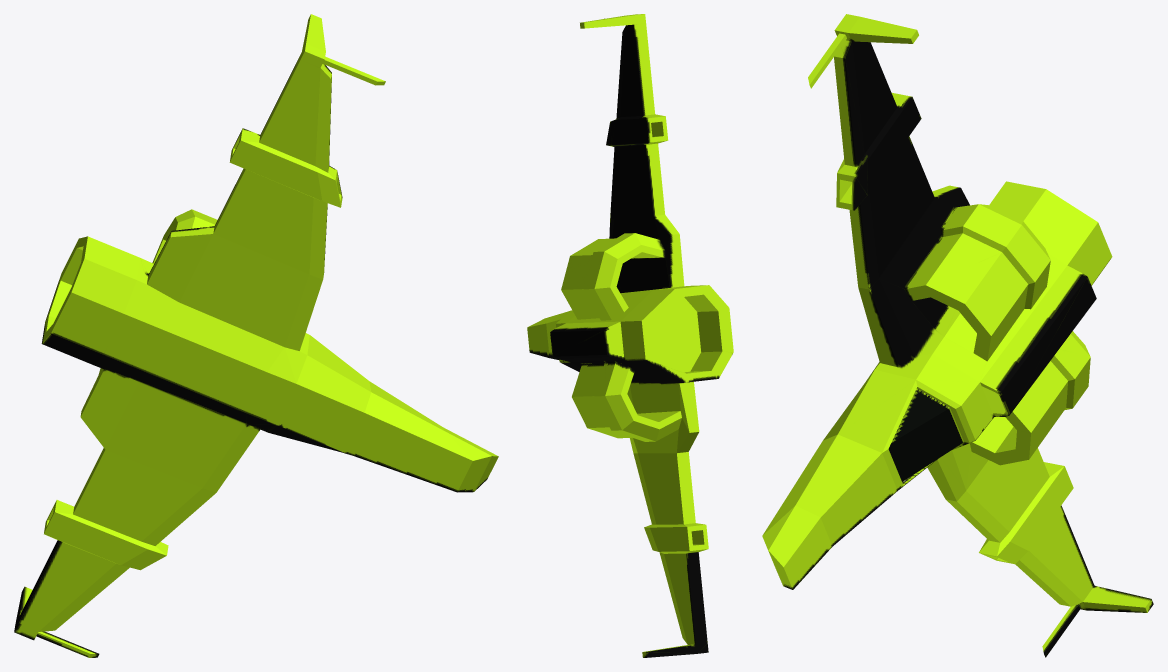
The model's file is Spaceship2.fbx.
The picture shows the model from 3 angles, left to right: view 1: azimuth 30°, elevation 25°; view 2: azimuth 150°, elevation 25°; view 3: azimuth 270°, elevation 25°; orthographic projection. The views are drawn at different scales.
Visible parts, largest first — view 1: node_id7; view 2: node_id7; view 3: node_id7 (×2).
Boxes of the visible parts, bbox=[...] form: node_id7: bbox=[14, 14, 498, 657]; node_id7: bbox=[527, 14, 733, 657]; node_id7 (×2): bbox=[762, 14, 1153, 657].
Size of the model in its own units: 0.2762 by 0.4928 by 0.246.
2 materials, 2 textured.
